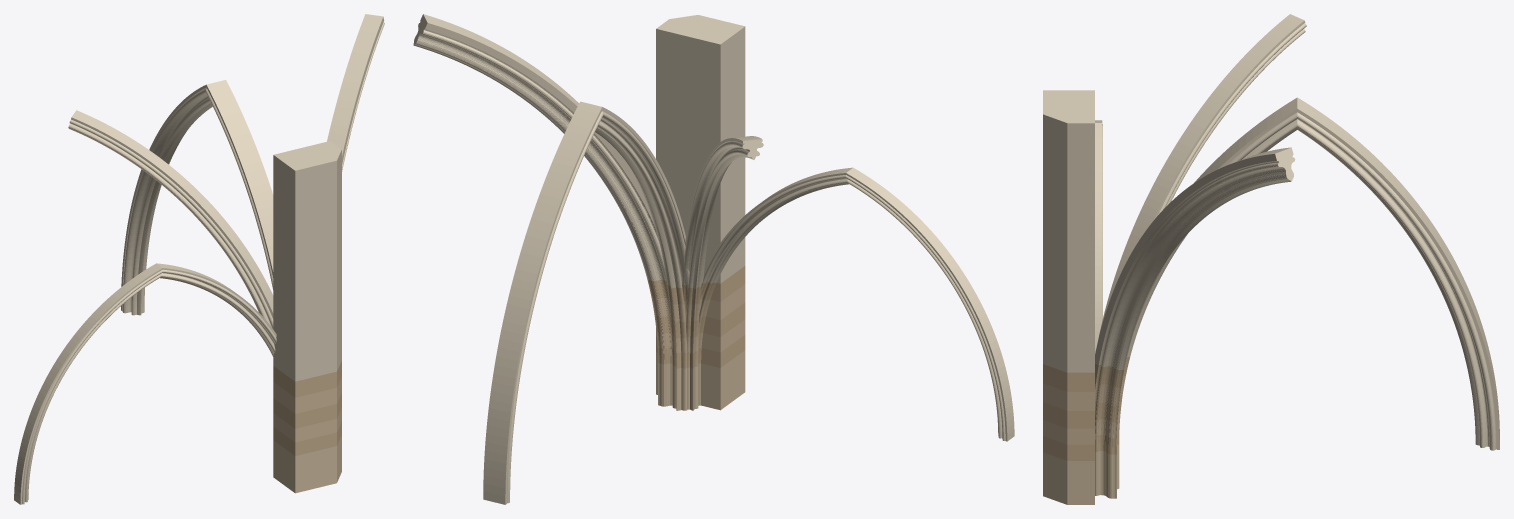
File: springer_variant.glb
The picture shows the model from 3 angles, left to right: view 1: azimuth 30°, elevation 25°; view 2: azimuth 150°, elevation 25°; view 3: azimuth 270°, elevation 25°; orthographic projection. The views are drawn at different scales.
Visible parts, largest first — view 1: receiver, member_0, member_3, member_1, member_2, derived_respond, course_04, course_05, course_03, course_01, course_02; view 2: member_0, receiver, member_2, member_3, member_1, derived_respond, course_05, course_04, course_03, course_01, course_02; view 3: receiver, member_0, member_2, member_1, derived_respond, member_3, course_05, course_04, course_03, course_02, course_01.
Part boxes in pixels (bbox=[...]): receiver: bbox=[273, 141, 341, 381]; member_0: bbox=[121, 80, 273, 315]; member_3: bbox=[14, 263, 276, 504]; member_1: bbox=[68, 110, 273, 328]; member_2: bbox=[327, 14, 384, 171]; derived_respond: bbox=[273, 435, 341, 493]; course_04: bbox=[273, 377, 341, 413]; course_05: bbox=[273, 361, 341, 397]; course_03: bbox=[273, 393, 341, 428]; course_01: bbox=[273, 421, 341, 455]; course_02: bbox=[273, 408, 341, 442]; member_0: bbox=[483, 101, 689, 504]; receiver: bbox=[656, 15, 745, 283]; member_2: bbox=[413, 14, 666, 281]; member_3: bbox=[702, 167, 1014, 441]; member_1: bbox=[682, 136, 763, 288]; derived_respond: bbox=[656, 350, 745, 410]; course_05: bbox=[647, 266, 745, 305]; course_04: bbox=[651, 284, 745, 322]; course_03: bbox=[654, 302, 745, 338]; course_01: bbox=[656, 335, 745, 368]; course_02: bbox=[656, 319, 745, 353]; receiver: bbox=[1043, 90, 1094, 372]; member_0: bbox=[1127, 97, 1499, 450]; member_2: bbox=[1095, 147, 1295, 369]; member_1: bbox=[1098, 14, 1306, 338]; derived_respond: bbox=[1043, 444, 1119, 504]; member_3: bbox=[1095, 120, 1102, 348]; course_05: bbox=[1043, 349, 1129, 391]; course_04: bbox=[1043, 375, 1125, 410]; course_03: bbox=[1043, 395, 1122, 428]; course_02: bbox=[1043, 412, 1120, 444]; course_01: bbox=[1043, 428, 1119, 460].
Bounding box in the file's own units: 3755 × 2900 × 2820.
